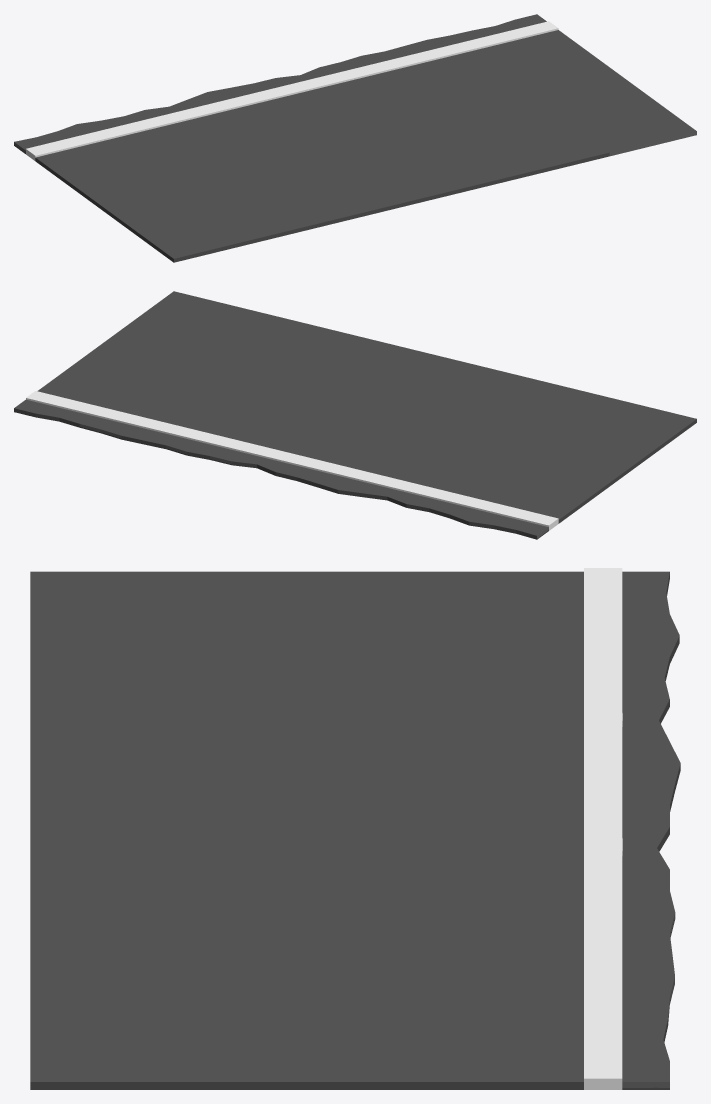
File: 2ndRoad.fbx
3 renders of one model, top to bottom at view 1: azimuth 30°, elevation 25°; view 2: azimuth 150°, elevation 25°; view 3: azimuth 270°, elevation 25°, orthographic. The views are drawn at different scales.
Parts seen in each view (by area): view 1: Cube.003; view 2: Cube.003; view 3: Cube.003.
Boxes of the visible parts, x1,y1,x2,y2 form: Cube.003: [14, 14, 696, 262]; Cube.003: [14, 291, 696, 539]; Cube.003: [30, 568, 680, 1089].
Size of the model in its own units: 800 by 8.16 by 431.
